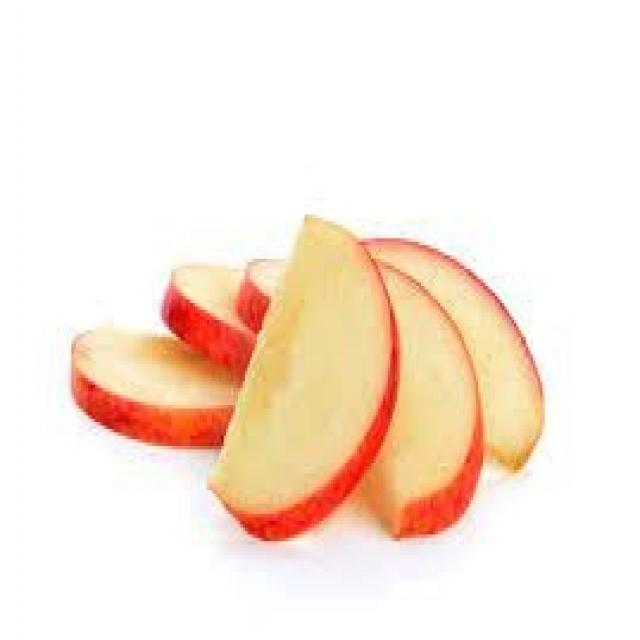Apple: (242, 208, 400, 552), (45, 276, 288, 487), (355, 215, 566, 456), (340, 245, 500, 555), (145, 248, 343, 436)
